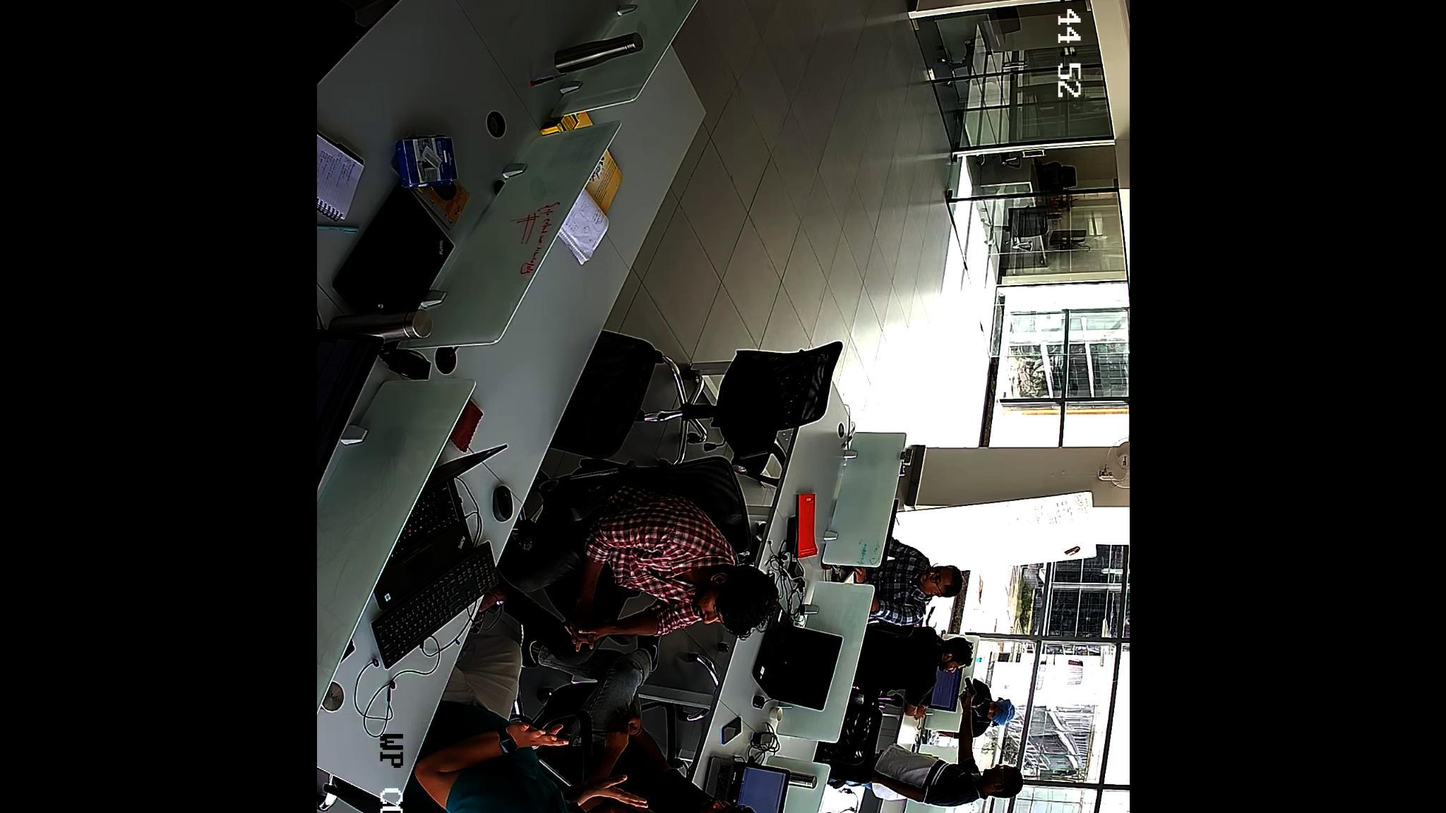gun: (959, 677, 975, 700)
